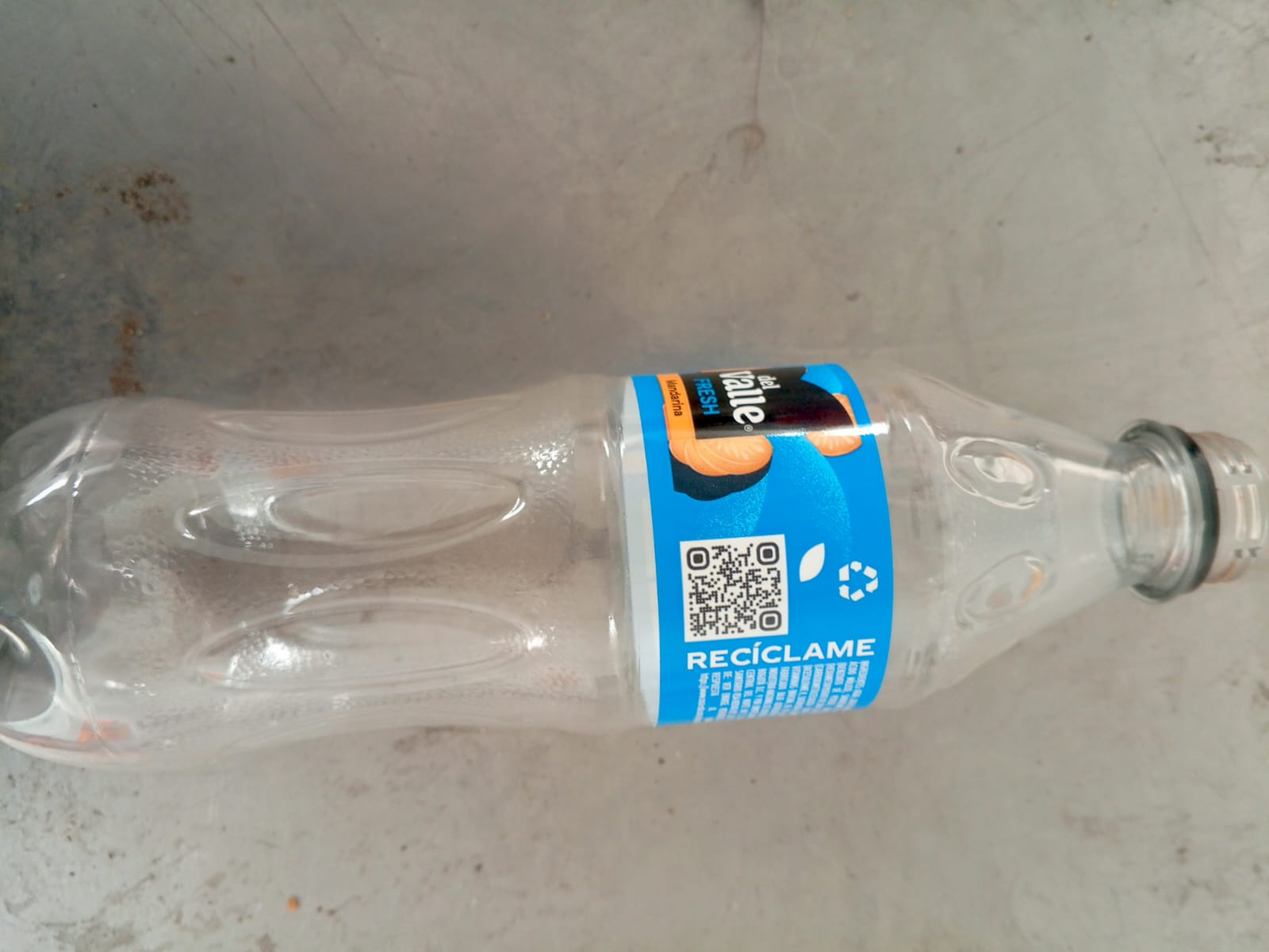Plastico: (0, 364, 1269, 766)
